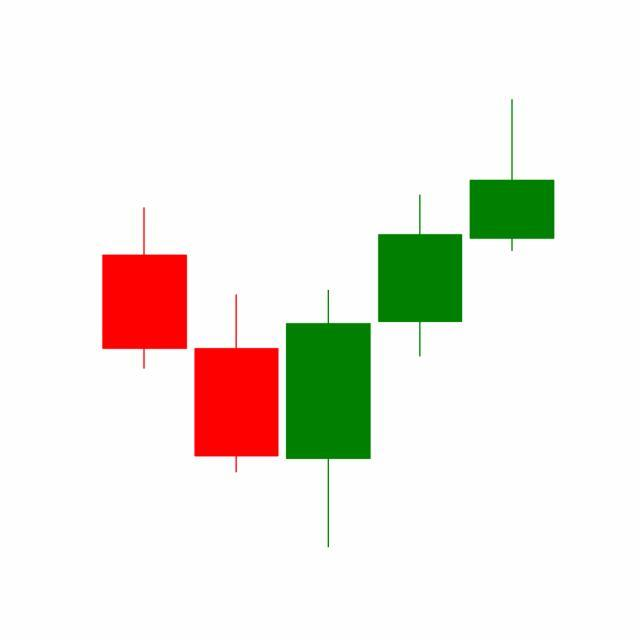Three Outside Up-Down: (190, 190, 467, 549)
